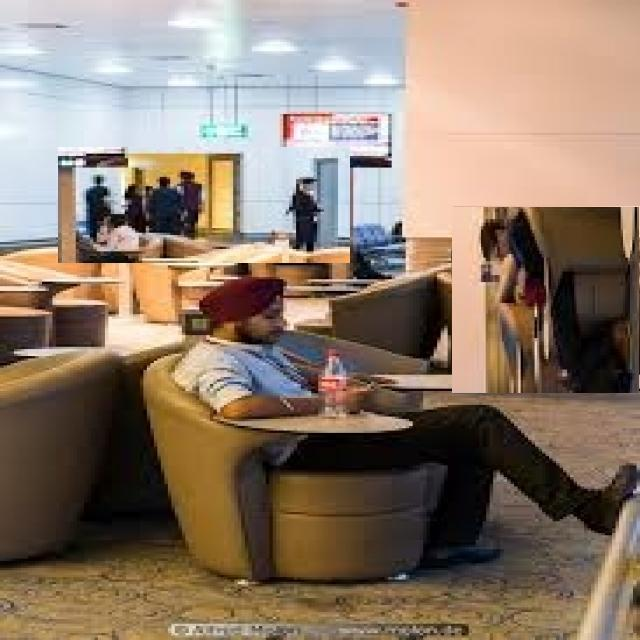NotFall: (105, 183, 570, 578)
